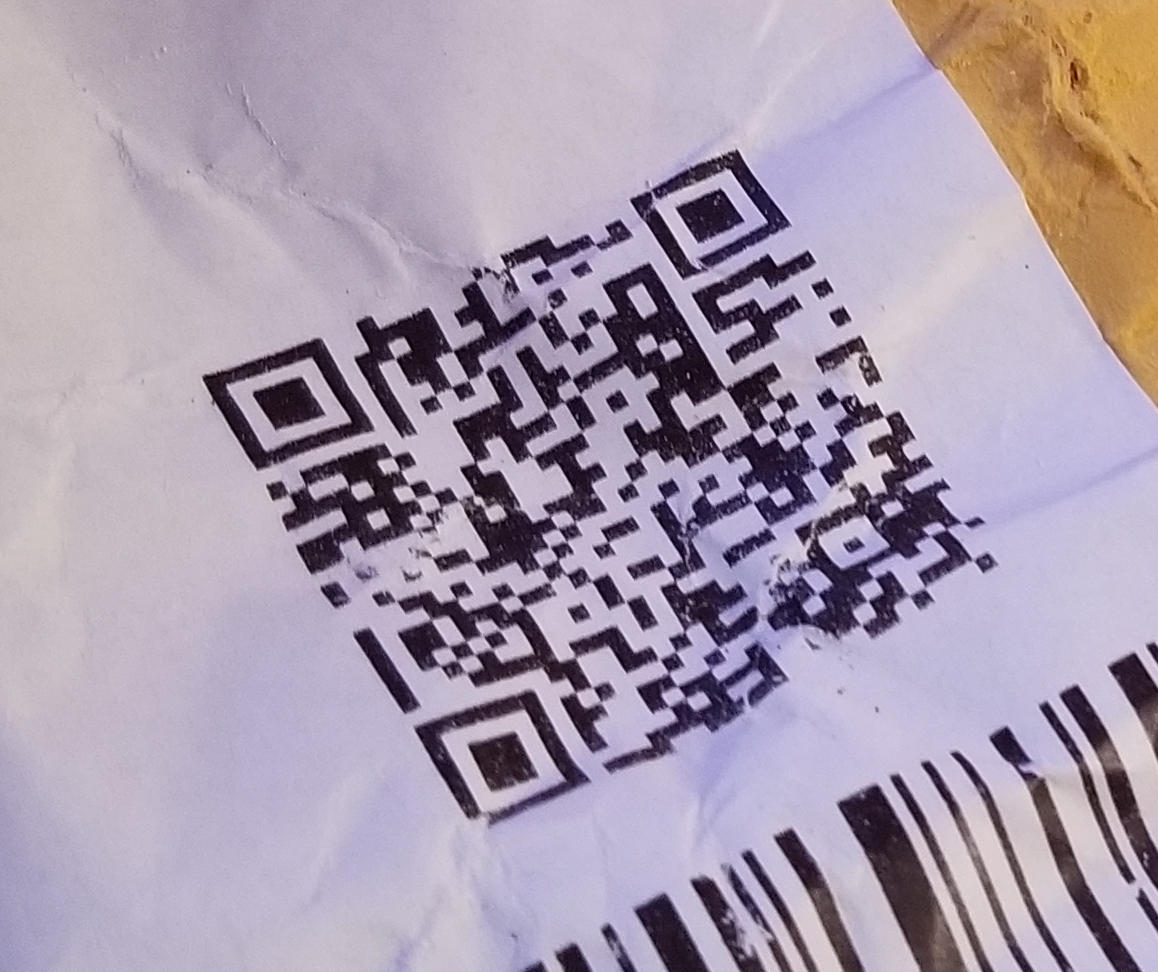QR_CODE: (176, 140, 1014, 837)
